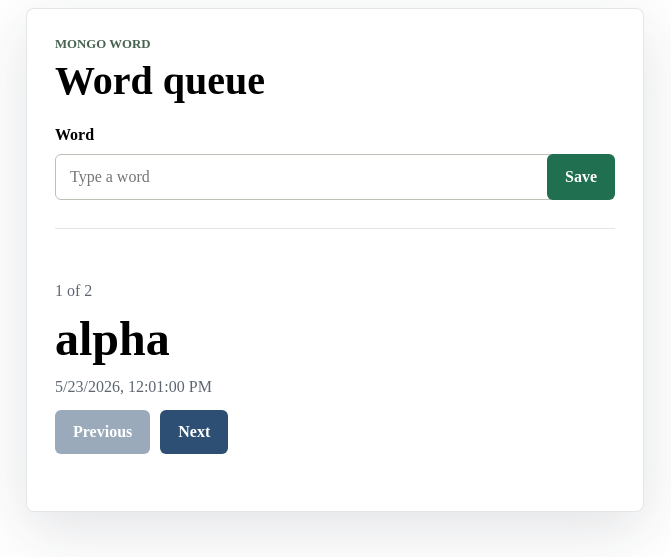
Test: WordApp › navigates saved words one at a time
Expected: the text with test id "current-word" reads "alpha", x1=55 y1=312 x2=170 y2=365
Click the button "Next".
click(194, 432)  # box x1=160 y1=410 x2=228 y2=454
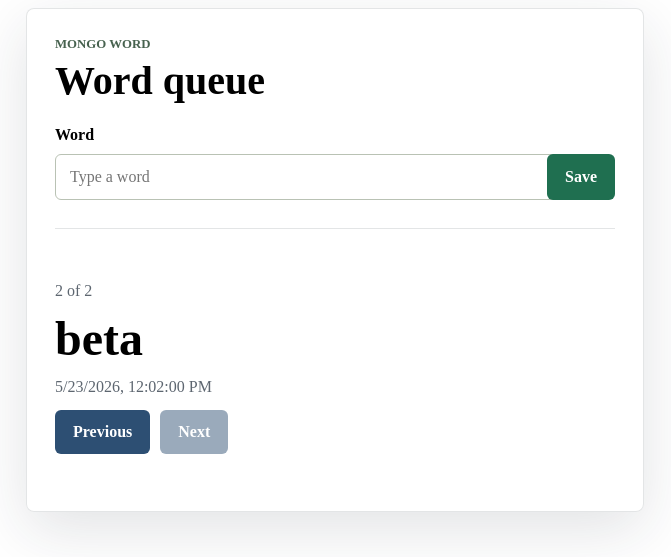
Expected: the text with test id "current-word" reads "beta", x1=55 y1=312 x2=143 y2=365
Click the button "Previous".
click(103, 432)  # box x1=55 y1=410 x2=150 y2=454
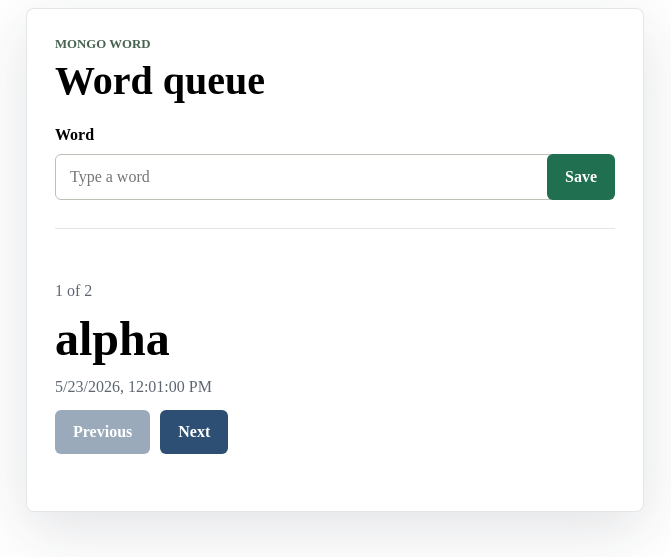
Expected: the text with test id "current-word" reads "alpha", x1=55 y1=312 x2=170 y2=365
